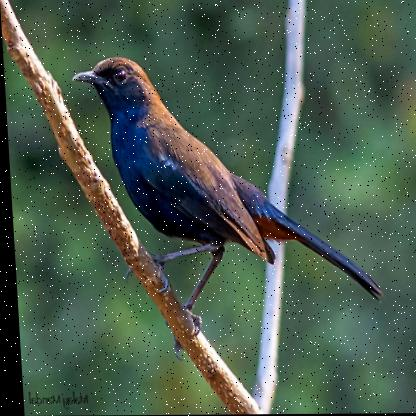Burung: (70, 56, 382, 360)
